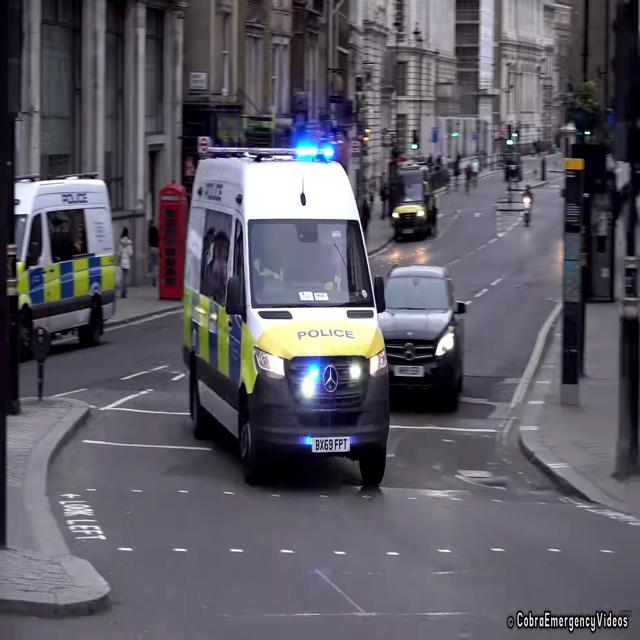emergency-vehicles: (175, 126, 398, 519), (6, 169, 131, 354)
